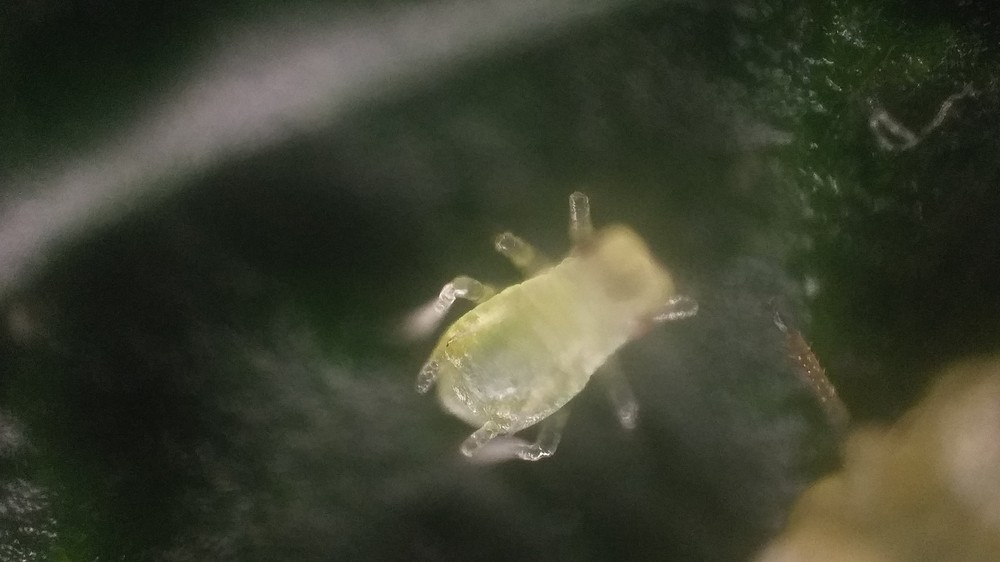Pulgon: (386, 158, 720, 476)
